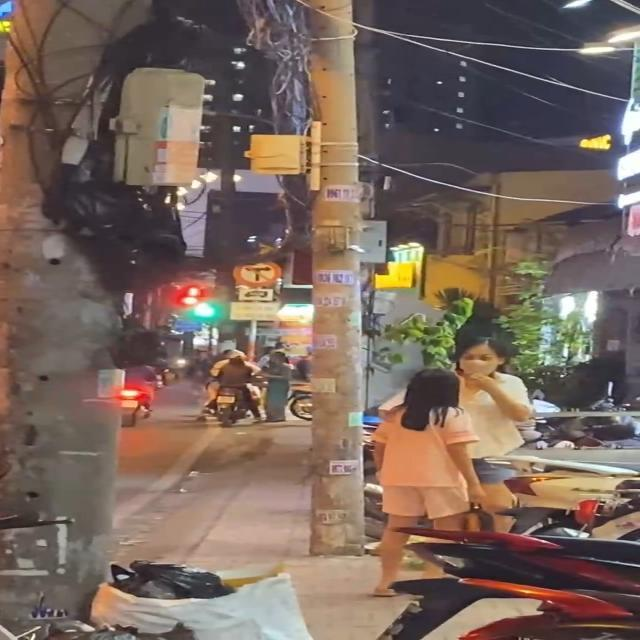137-cam-re-trai-va-re-phai: (232, 257, 284, 289)
